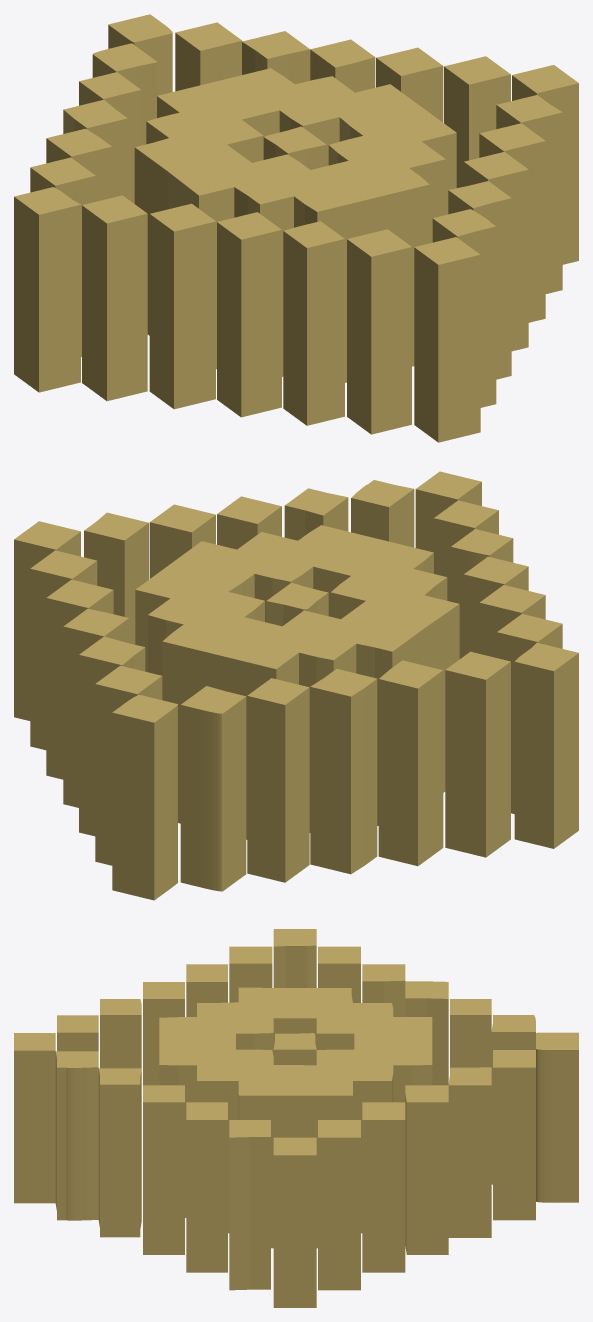
Rendered from lingxing.glb.
3 renders of one model, top to bottom at view 1: azimuth 30°, elevation 25°; view 2: azimuth 150°, elevation 25°; view 3: azimuth 270°, elevation 25°, orthographic. The views are drawn at different scales.
Visible parts, largest first — view 1: 蜡笔; view 2: 蜡笔; view 3: 蜡笔.
Part boxes in pixels (x1,y1,x2,y2): 蜡笔: [14, 14, 578, 442]; 蜡笔: [14, 471, 578, 900]; 蜡笔: [14, 929, 578, 1307].
Bounding box in the file's own units: 5.55 × 1.75 × 5.86.
